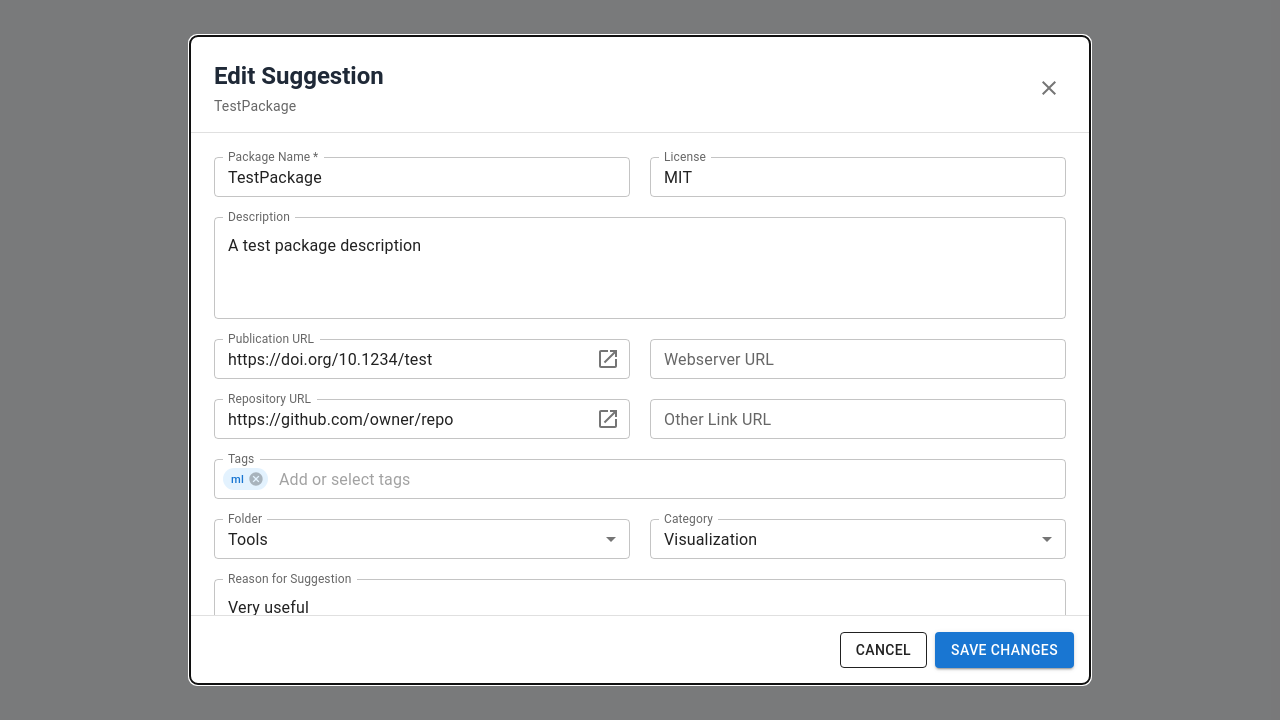
EditSuggestionModal — save flow › shows error message when update fails
The width and height of the screenshot is (1280, 720).
Click the button "Save Changes" at (1005, 650), box [935,632,1074,668]
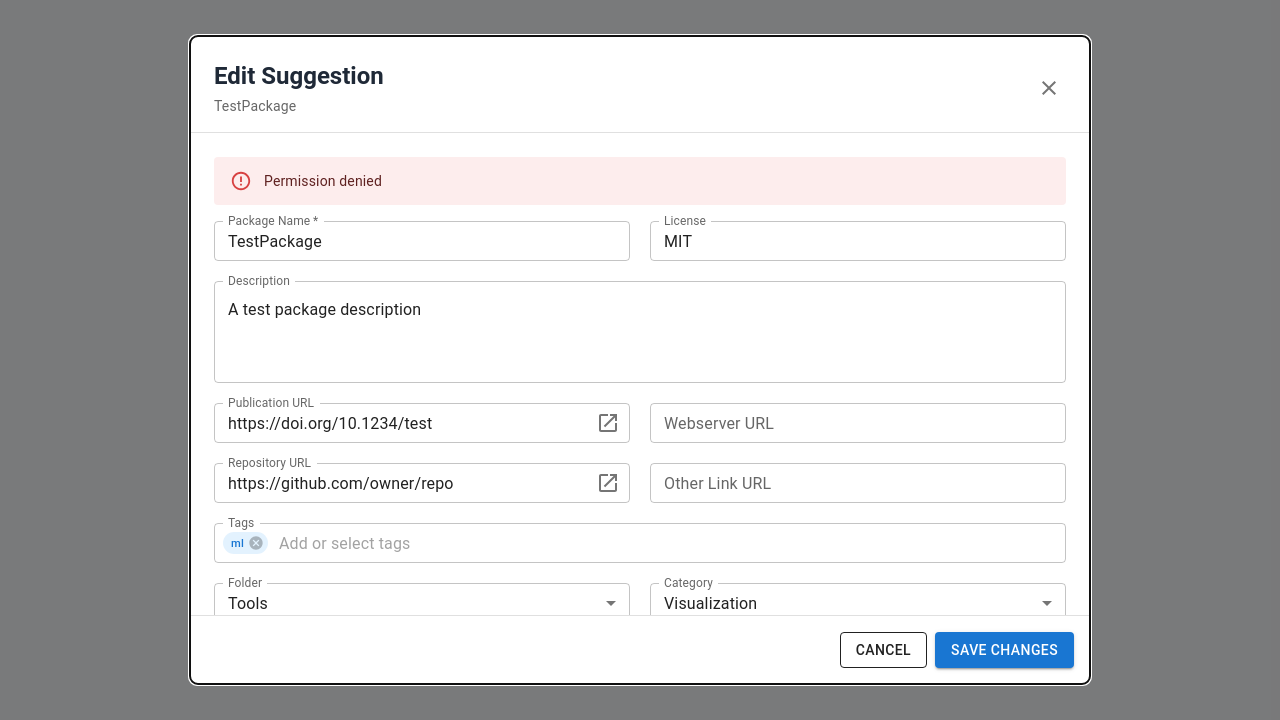
Expected: the text "Permission denied" is shown, [264,173,382,189]
